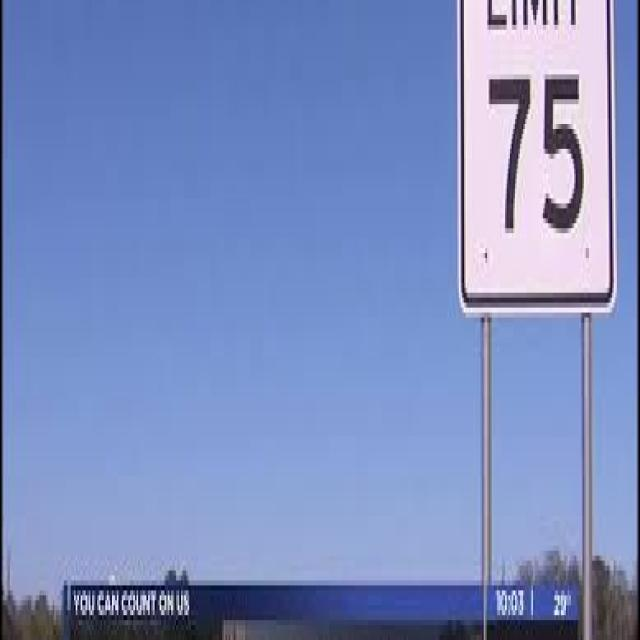speedLimit75: (455, 8, 611, 315)
